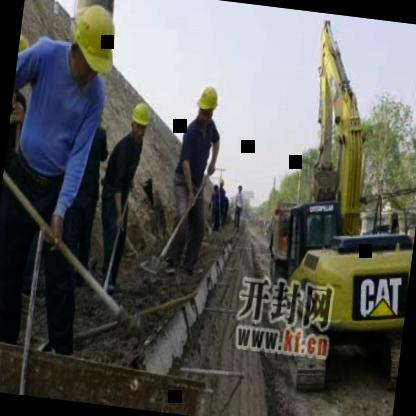helmet: (58, 0, 127, 93), (194, 79, 222, 124), (126, 97, 153, 143), (16, 27, 34, 72)
